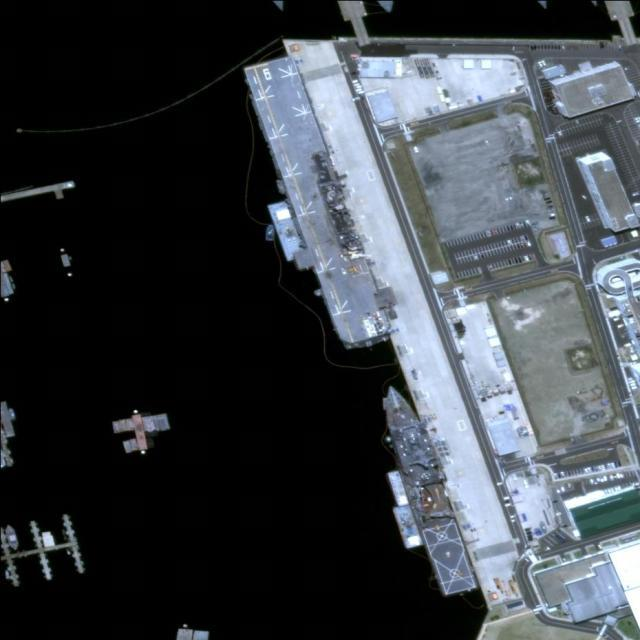Landing: (245, 52, 388, 350), (370, 377, 480, 601)
